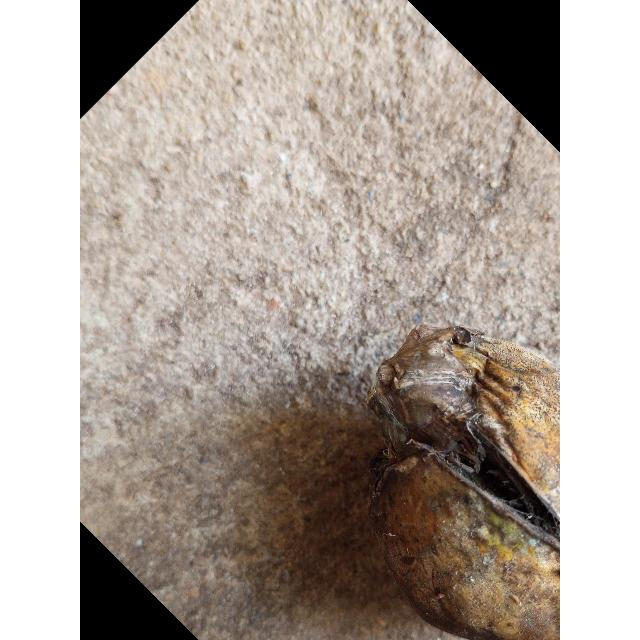damaged: (361, 327, 560, 640)
